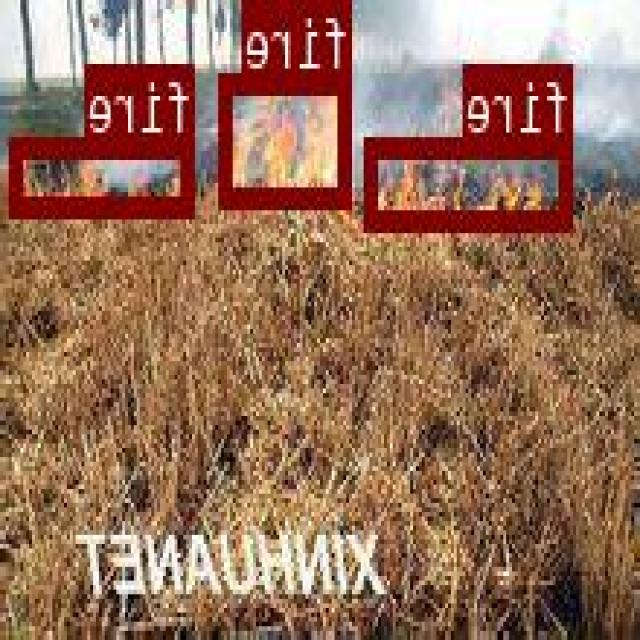fire: (369, 134, 576, 228), (222, 70, 352, 202), (14, 134, 197, 213)
